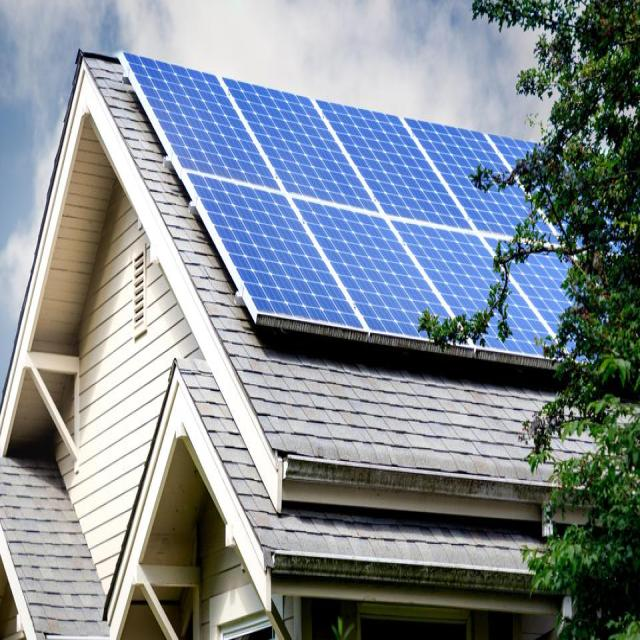Clean: (125, 56, 533, 336)
